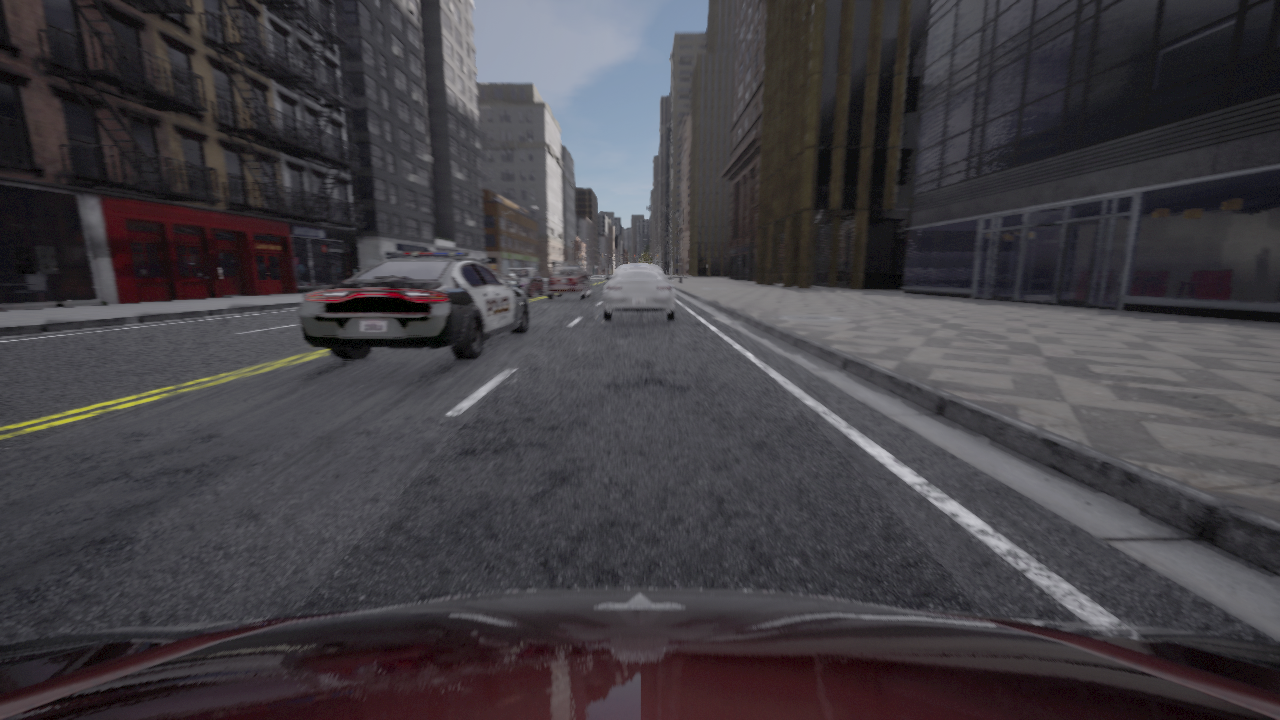cyclist: (0, 588, 1279, 719), (298, 252, 529, 359), (603, 264, 675, 320), (547, 265, 591, 299), (499, 268, 544, 297)
